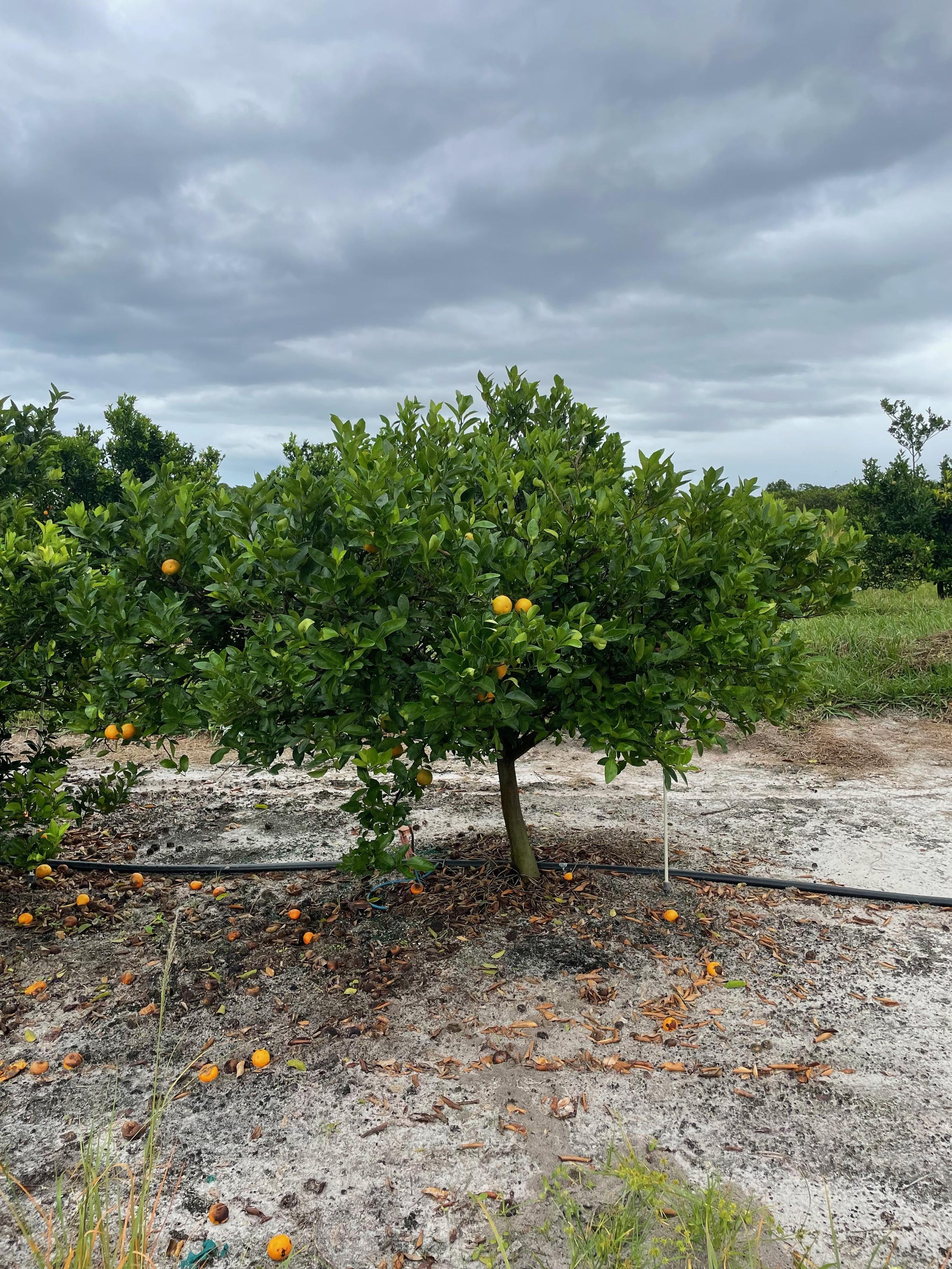fruit_on_ground: (471, 682, 499, 707), (361, 530, 386, 556), (376, 711, 401, 735), (158, 555, 183, 578), (491, 593, 514, 618), (381, 739, 404, 761), (513, 595, 535, 617), (413, 766, 435, 788), (117, 720, 138, 742), (102, 722, 121, 742)
fruit_on_tree: (266, 1232, 294, 1263), (206, 1199, 232, 1225), (120, 1118, 144, 1140), (198, 1061, 220, 1083), (250, 1047, 272, 1069), (62, 1051, 84, 1070), (28, 1056, 49, 1075), (661, 905, 681, 923), (33, 862, 53, 879), (128, 870, 145, 888), (16, 910, 35, 926), (408, 880, 425, 896), (300, 930, 317, 945), (75, 892, 92, 907), (210, 884, 228, 898), (63, 914, 79, 928), (189, 876, 204, 890), (54, 863, 70, 874), (561, 869, 575, 881), (287, 907, 301, 919)
